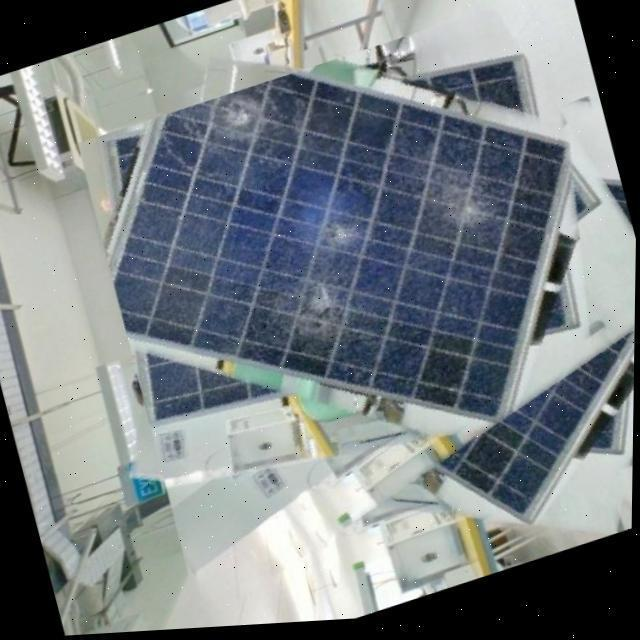Anomaly Solar Panel: (110, 75, 568, 431)
Structural Damage: (247, 198, 407, 354), (390, 132, 527, 285), (165, 75, 317, 197), (144, 353, 275, 421), (410, 68, 523, 119)
